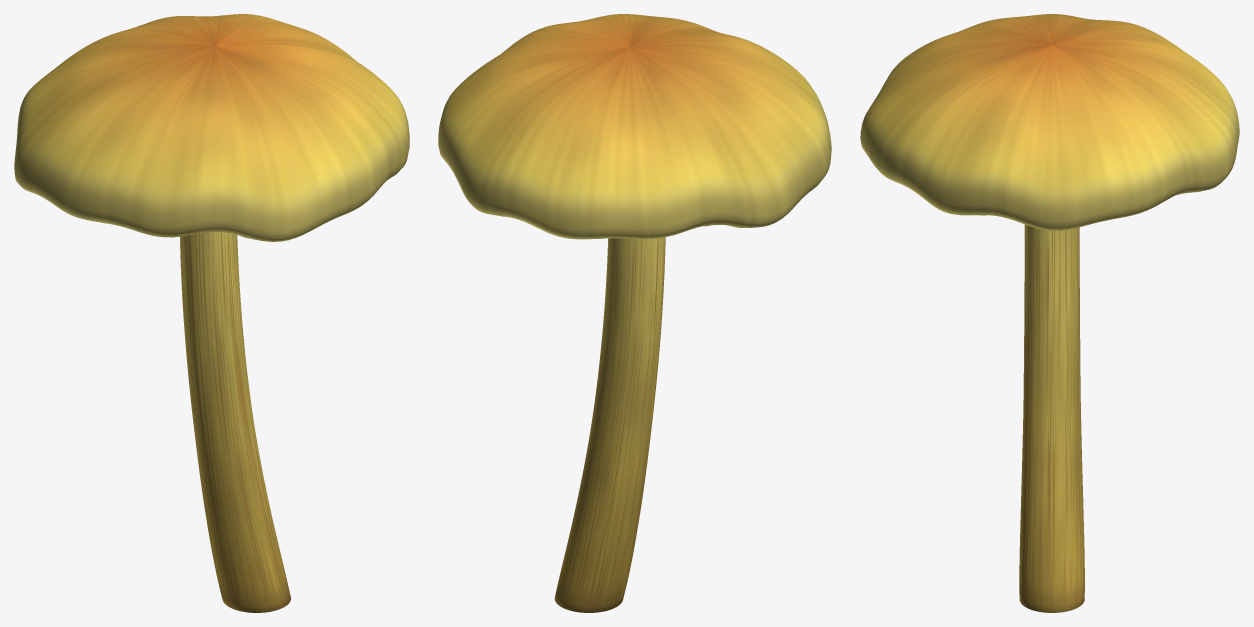
Rendered from hypholoma-fasciculare-drawn.glb.
The picture shows the model from 3 angles, left to right: view 1: azimuth 30°, elevation 25°; view 2: azimuth 150°, elevation 25°; view 3: azimuth 270°, elevation 25°; orthographic projection. The views are drawn at different scales.
Bounding box in the file's own units: 0.5568 × 0.87 × 0.5557.
1 material, 1 textured.
